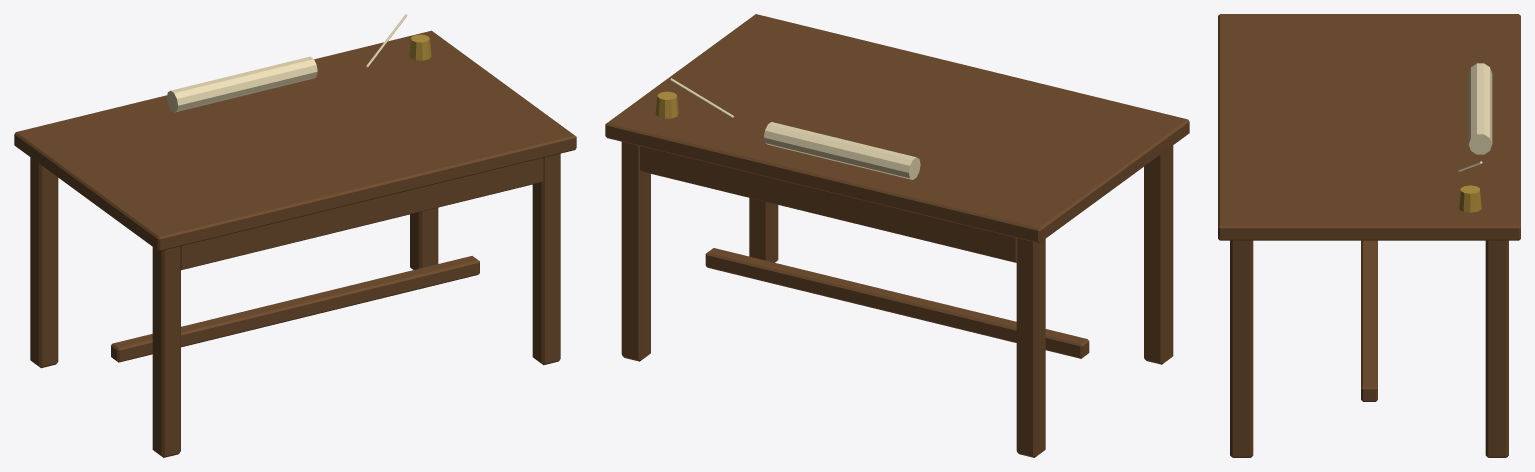
File: Prop_Lab_SurveyTable.glb
3 views of the same model, side by side, from view 1: azimuth 30°, elevation 25°; view 2: azimuth 150°, elevation 25°; view 3: azimuth 270°, elevation 25° (orthographic). The views are drawn at different scales.
Visible parts, largest first — view 1: Prop_Lab_SurveyTable; view 2: Prop_Lab_SurveyTable; view 3: Prop_Lab_SurveyTable.
Boxes of the visible parts, <box> form: Prop_Lab_SurveyTable: <box>14,14,576,457</box>; Prop_Lab_SurveyTable: <box>605,14,1189,457</box>; Prop_Lab_SurveyTable: <box>1218,14,1520,457</box>.
Size of what is drawn, in the model's own units: 1.5 by 0.918 by 0.9.
